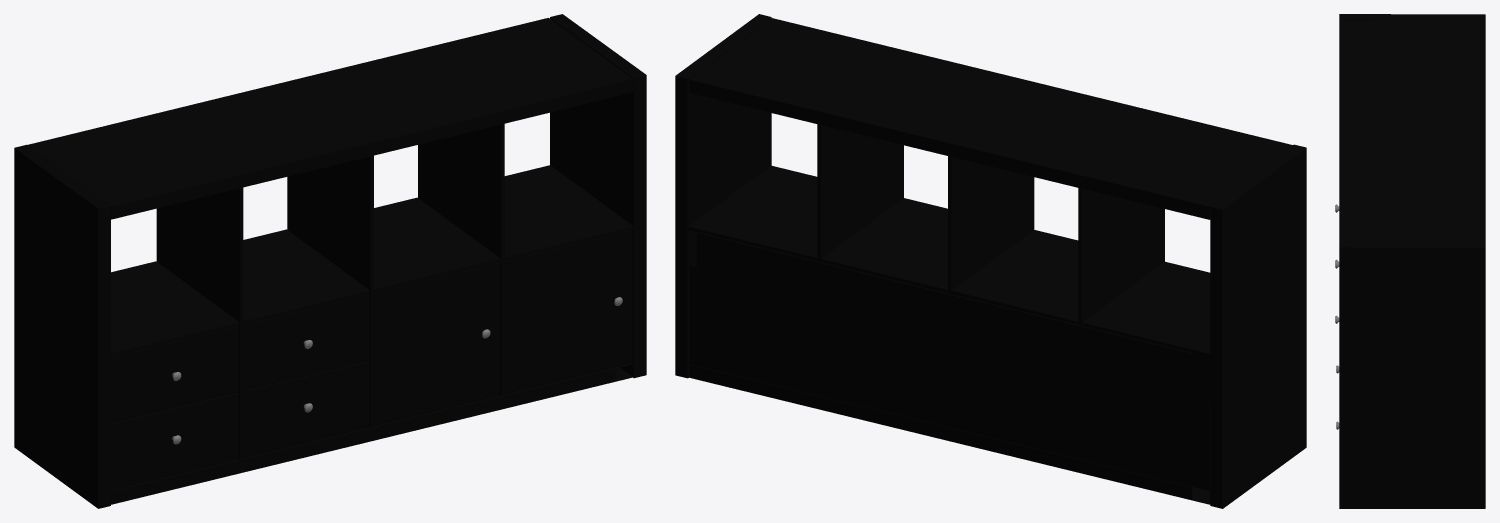
File: cabinet.fbx
3 views of the same model, side by side, from view 1: azimuth 30°, elevation 25°; view 2: azimuth 150°, elevation 25°; view 3: azimuth 270°, elevation 25° (orthographic). The views are drawn at different scales.
Visible parts, largest first — view 1: Cube.001, Plane.002, Plane.003, Cube.002, Cube.003, Plane.001; view 2: Plane.001, Plane.002, Plane.003, Cube.002, Cube.003; view 3: Plane.003, Plane.002.
Boxes of the visible parts, box(x1,y1,x2,y2) form: Cube.001: box(111, 230, 632, 489); Plane.002: box(28, 18, 633, 219); Plane.003: box(14, 14, 646, 508); Cube.002: box(111, 165, 633, 356); Cube.003: box(156, 123, 504, 459); Plane.001: box(111, 363, 633, 504); Plane.001: box(689, 230, 1210, 504); Plane.002: box(689, 18, 1292, 219); Plane.003: box(675, 14, 1306, 508); Cube.002: box(688, 165, 1210, 357); Cube.003: box(817, 124, 1164, 325); Plane.003: box(1339, 14, 1485, 508); Plane.002: box(1339, 20, 1485, 242).
Bounding box in the file's own units: 147 × 77 × 40.01.
Materials: 2 (2 with a texture image).
